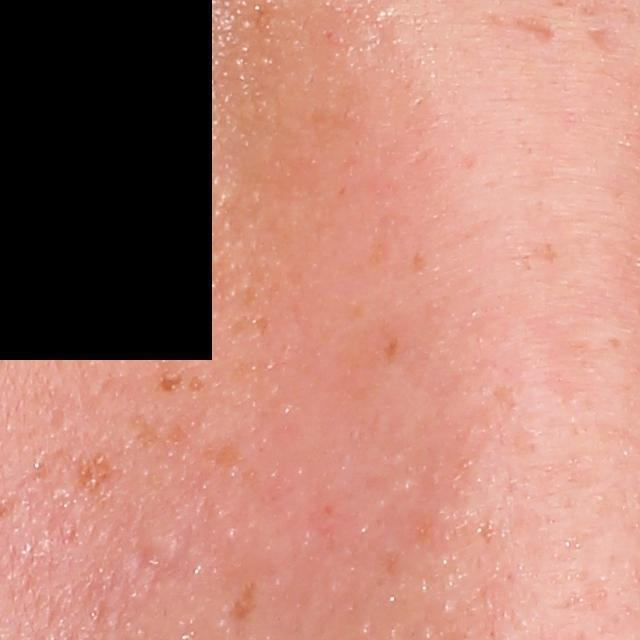atrophic_scar: (482, 10, 561, 48), (132, 534, 189, 586), (586, 26, 622, 58)
melasma: (127, 410, 193, 449), (222, 575, 266, 621), (200, 431, 247, 473), (535, 242, 565, 267), (381, 330, 404, 359), (157, 372, 185, 395), (411, 241, 428, 276), (252, 314, 271, 338)
